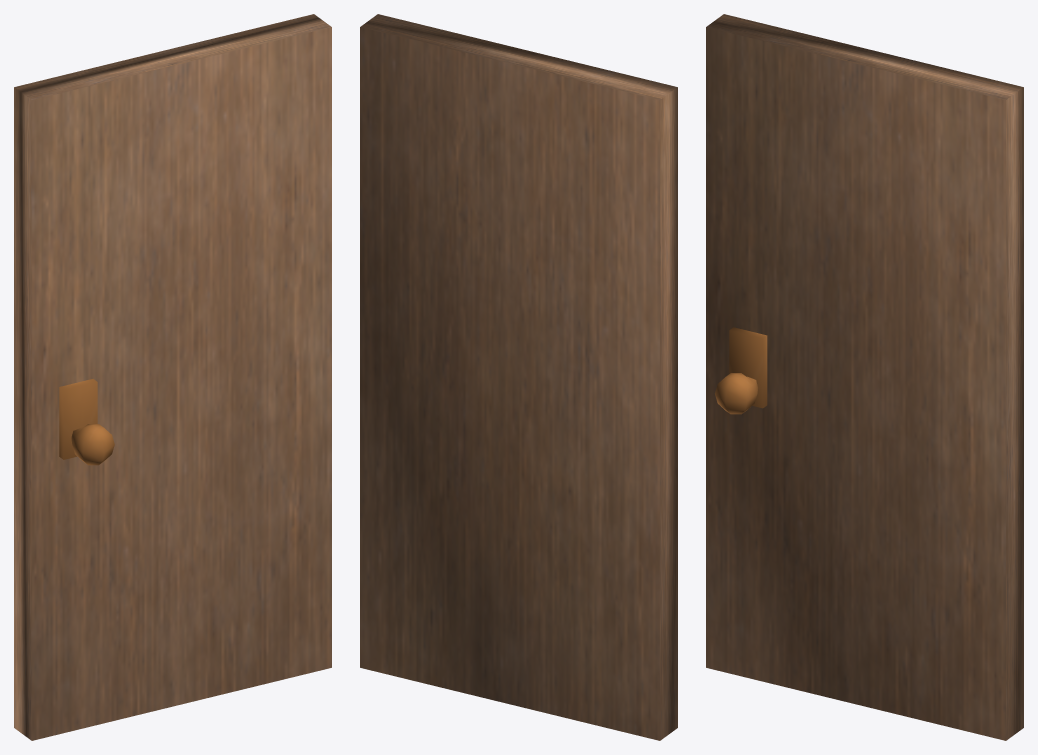
The model's file is apartmentDoor.glb.
3 renders of one model, left to right at view 1: azimuth 30°, elevation 25°; view 2: azimuth 150°, elevation 25°; view 3: azimuth 330°, elevation 25°, orthographic.
Visible parts, largest first — view 1: Cube; view 2: Cube; view 3: Cube.
Part boxes in pixels (<box>): Cube: <box>14,14,331,740</box>; Cube: <box>360,14,677,740</box>; Cube: <box>706,14,1023,740</box>.
Bounding box in the file's own units: 4.36 × 8.91 × 1.11.
2 materials, 2 textured.
